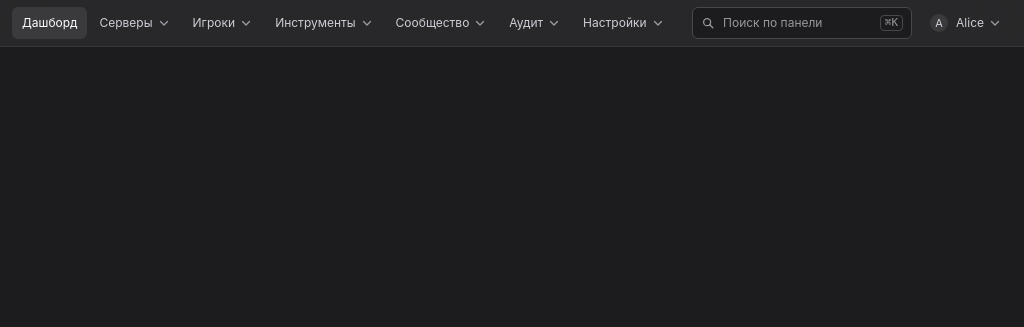
Test: TopNav › exposes each dropdown as a menu rather than a list of links
The width and height of the screenshot is (1024, 327).
Click the button "Игроки".
click(223, 23)  # box [182,7,263,39]
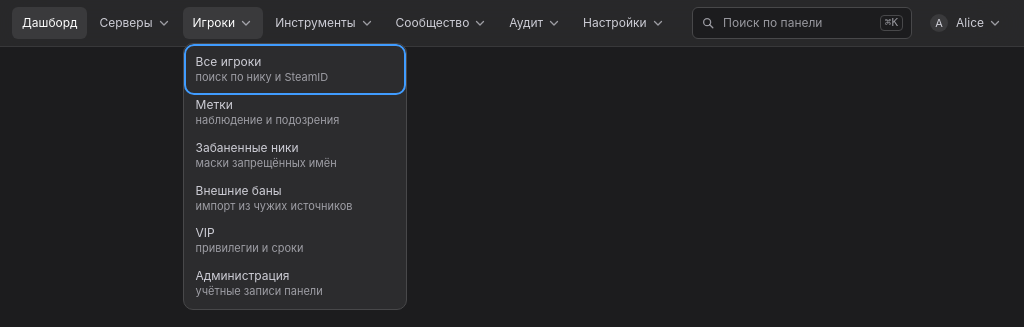
Result: the menu is shown at [182,43,406,310]
